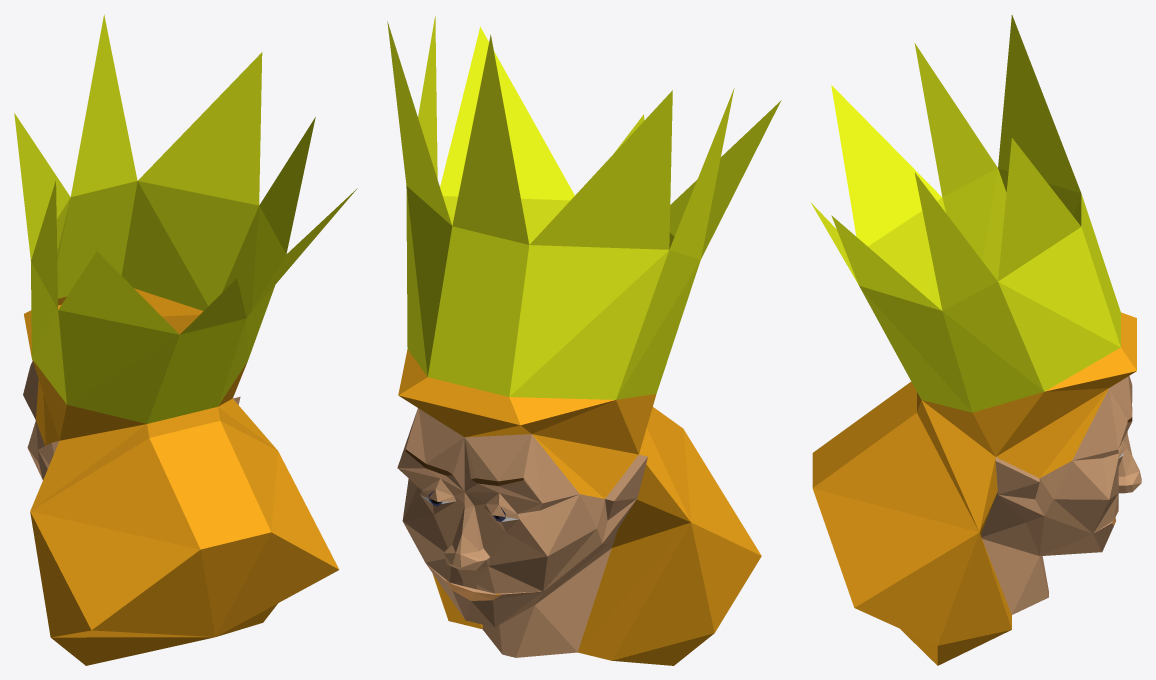
Rendered from npc_chat_fairy_queen_0.obj.
3 renders of one model, left to right at view 1: azimuth 30°, elevation 25°; view 2: azimuth 150°, elevation 25°; view 3: azimuth 270°, elevation 25°, orthographic. The views are drawn at different scales.
Size of the model in its own units: 1.04 by 2.2 by 1.12.
